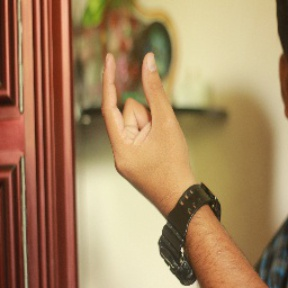U: (91, 44, 187, 181)
